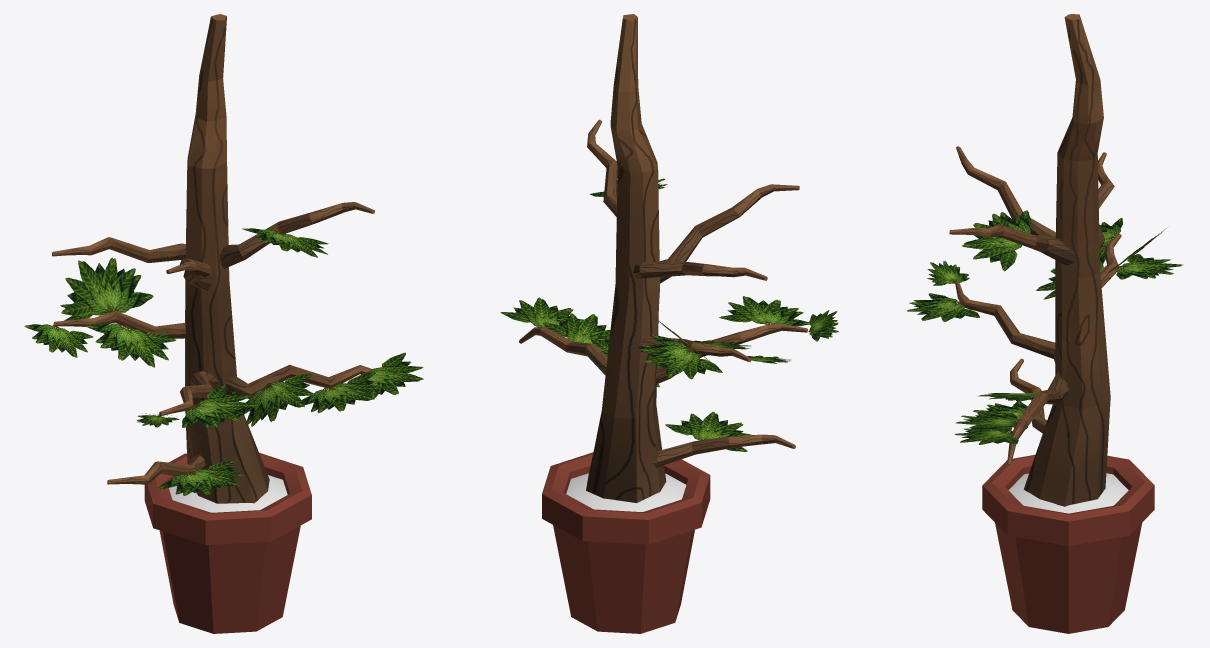
File: Plant-1.fbx
The picture shows the model from 3 angles, left to right: view 1: azimuth 30°, elevation 25°; view 2: azimuth 150°, elevation 25°; view 3: azimuth 270°, elevation 25°; orthographic projection.
Parts seen in each view (by area): view 1: PlantPot, MediumBranch-1, Plane.051, Plane.050, MediumBranch-2.008, Plane.042, MediumBranch-2.005, Plane.043, MediumBranch-2.007, Plane.001, Plane, Plane.044 (+6 smaller); view 2: MediumBranch-1, PlantPot, MediumBranch-2.006, Plane.046, MediumBranch-2.001, MediumBranch-2.007, Plane.043, Plane, Plane.001, MediumBranch-2.005, Plane.044, MediumBranch-2.008 (+2 smaller); view 3: MediumBranch-1, PlantPot, Plane.045, MediumBranch-2.008, MediumBranch-2.003, MediumBranch-2.006, MediumBranch-2.005, Plane.043, Plane.046, Plane.001, Plane.044, MediumBranch-2.001 (+4 smaller).
Part boxes in pixels (x1=…): PlantPot: x1=144, y1=452, x2=311, y2=633; MediumBranch-1: x1=185, y1=14, x2=269, y2=503; Plane.051: x1=61, y1=257, x2=153, y2=316; Plane.050: x1=86, y1=323, x2=175, y2=367; MediumBranch-2.008: x1=219, y1=202, x2=374, y2=268; Plane.042: x1=235, y1=374, x2=313, y2=426; MediumBranch-2.005: x1=226, y1=365, x2=372, y2=399; Plane.043: x1=182, y1=384, x2=257, y2=428; MediumBranch-2.007: x1=52, y1=237, x2=185, y2=262; Plane.001: x1=294, y1=372, x2=381, y2=413; Plane: x1=157, y1=460, x2=245, y2=495; Plane.044: x1=361, y1=352, x2=423, y2=398; MediumBranch-1: x1=586, y1=14, x2=666, y2=502; PlantPot: x1=542, y1=452, x2=710, y2=633; MediumBranch-2.006: x1=659, y1=184, x2=799, y2=283; Plane.046: x1=640, y1=334, x2=722, y2=379; MediumBranch-2.001: x1=653, y1=434, x2=795, y2=467; MediumBranch-2.007: x1=633, y1=261, x2=767, y2=280; Plane.043: x1=719, y1=296, x2=809, y2=326; Plane: x1=665, y1=411, x2=751, y2=451; Plane.001: x1=542, y1=313, x2=610, y2=355; MediumBranch-2.005: x1=519, y1=326, x2=607, y2=375; Plane.044: x1=500, y1=297, x2=583, y2=327; MediumBranch-2.008: x1=587, y1=119, x2=617, y2=216; MediumBranch-1: x1=1023, y1=14, x2=1110, y2=506; PlantPot: x1=982, y1=454, x2=1154, y2=633; Plane.045: x1=962, y1=210, x2=1031, y2=271; MediumBranch-2.008: x1=949, y1=224, x2=1075, y2=265; MediumBranch-2.003: x1=955, y1=282, x2=1055, y2=362; MediumBranch-2.006: x1=956, y1=146, x2=1055, y2=237; MediumBranch-2.005: x1=1007, y1=371, x2=1068, y2=464; Plane.043: x1=907, y1=293, x2=979, y2=321; Plane.046: x1=1115, y1=254, x2=1183, y2=279; Plane.001: x1=955, y1=412, x2=1018, y2=432; Plane.044: x1=954, y1=428, x2=1018, y2=444; MediumBranch-2.001: x1=1010, y1=358, x2=1047, y2=433.
Size of the model in its own units: 2851 by 4317 by 2125.
